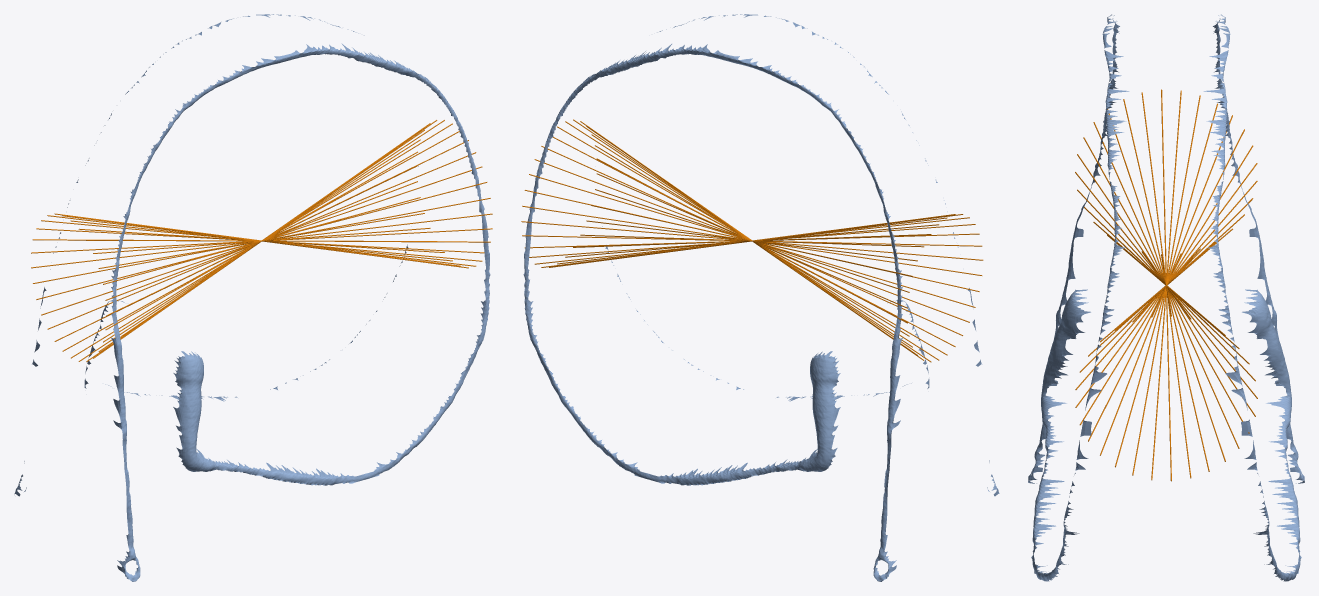
File: A60023105_6150-37-520-3994_DigitalTwin.glb
The picture shows the model from 3 angles, left to right: view 1: azimuth 30°, elevation 25°; view 2: azimuth 150°, elevation 25°; view 3: azimuth 270°, elevation 25°; orthographic projection. The views are drawn at different scales.
Parts seen in each view (by area): view 1: world; view 2: world; view 3: world.
Part boxes in pixels (bbox=[...]): world: bbox=[14, 14, 492, 581]; world: bbox=[521, 14, 999, 581]; world: bbox=[1028, 14, 1304, 581].
Bounding box in the file's own units: 1792 × 2031 × 926.
